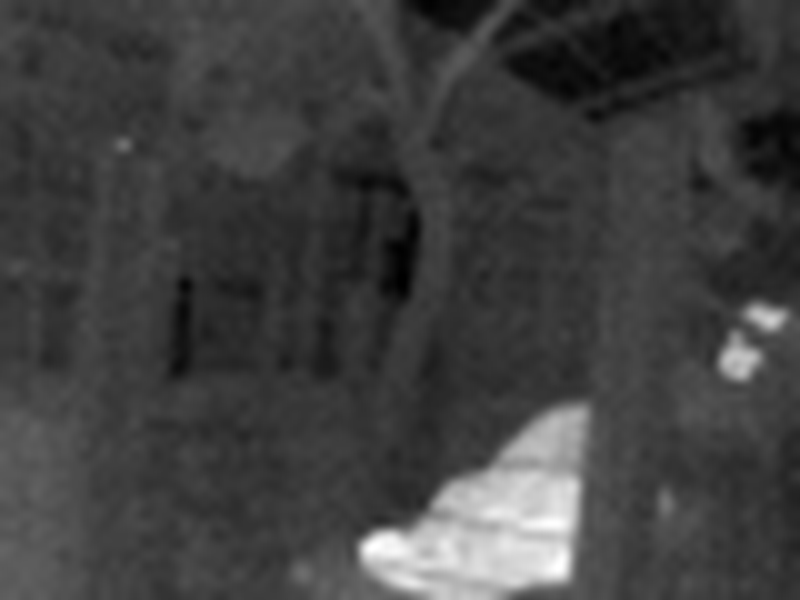elephant: (329, 394, 705, 600)
